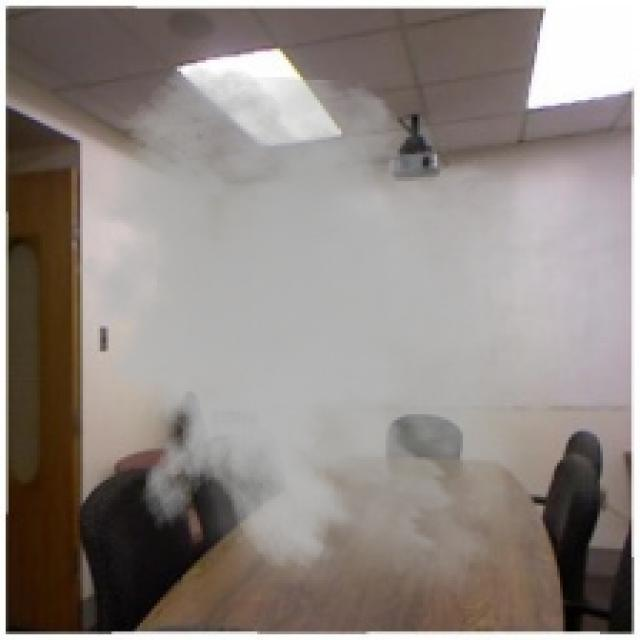smoke: (57, 66, 583, 620)
